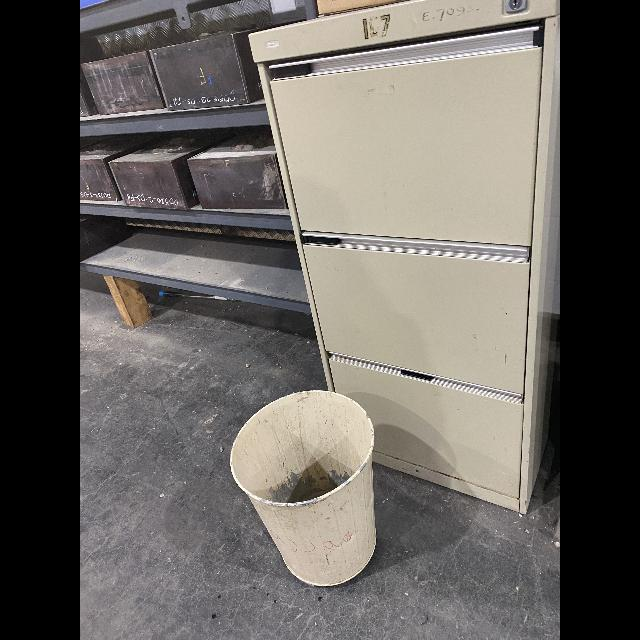Aluminium: (98, 0, 269, 57), (125, 218, 295, 242)
Ferrous Metal: (230, 391, 376, 587), (150, 19, 308, 111), (108, 133, 237, 209), (187, 133, 288, 209), (80, 133, 177, 201), (82, 50, 167, 115), (80, 0, 209, 32), (80, 216, 133, 264), (81, 64, 97, 116)
